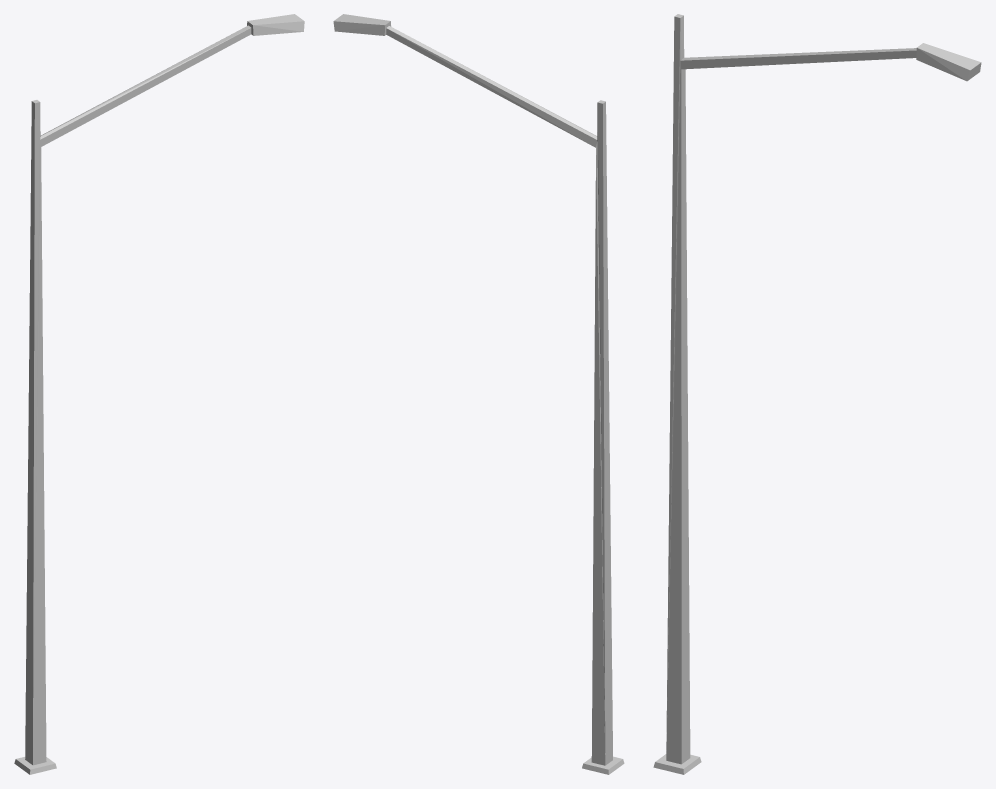
Rendered from streetlight.glb.
3 views of the same model, side by side, from view 1: azimuth 30°, elevation 25°; view 2: azimuth 150°, elevation 25°; view 3: azimuth 330°, elevation 25° (orthographic). The views are drawn at different scales.
Visible parts, largest first — view 1: Streetlight_0; view 2: Streetlight_0; view 3: Streetlight_0.
Part boxes in pixels (left/top/right/bottom): Streetlight_0: left=14, top=14, right=304, bottom=774; Streetlight_0: left=333, top=14, right=624, bottom=774; Streetlight_0: left=653, top=14, right=981, bottom=774.
Bounding box in the file's own units: 2.29 × 5.45 × 0.2235.
1 material, 1 textured.
